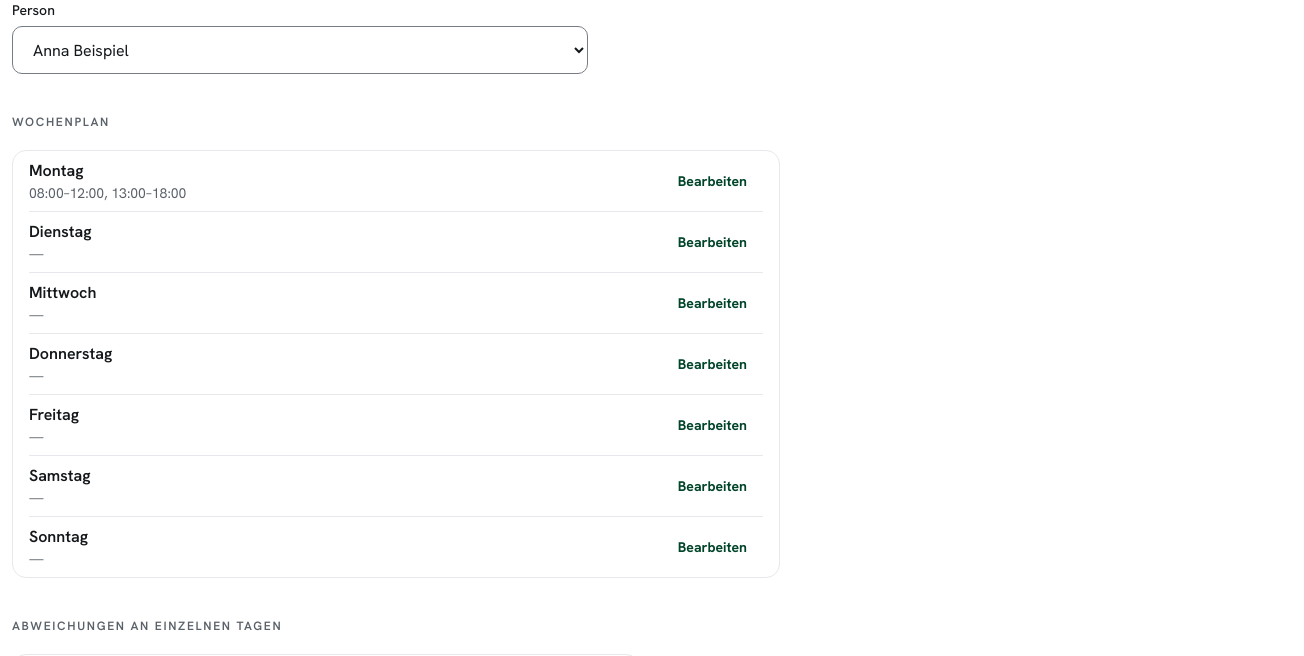
Scenario: ArbeitszeitJePerson (ORG-003) › Wochenplan › lässt das Speichern gesperrt, solange nichts geändert ist
Click the button "Bearbeiten" in the row of "Dienstag". click: [712, 242]
box: [662,220,763,264]
(page scrolled)
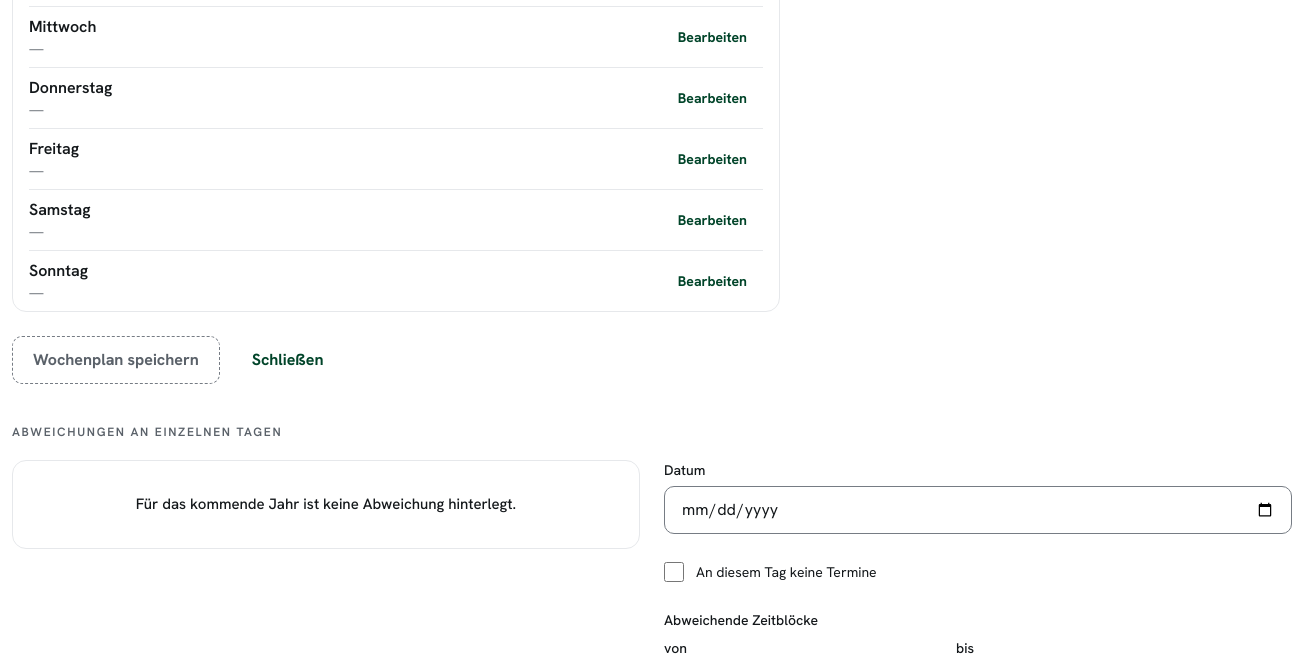
Check: the button "Wochenplan speichern" is disabled, box [12,336,220,384]
